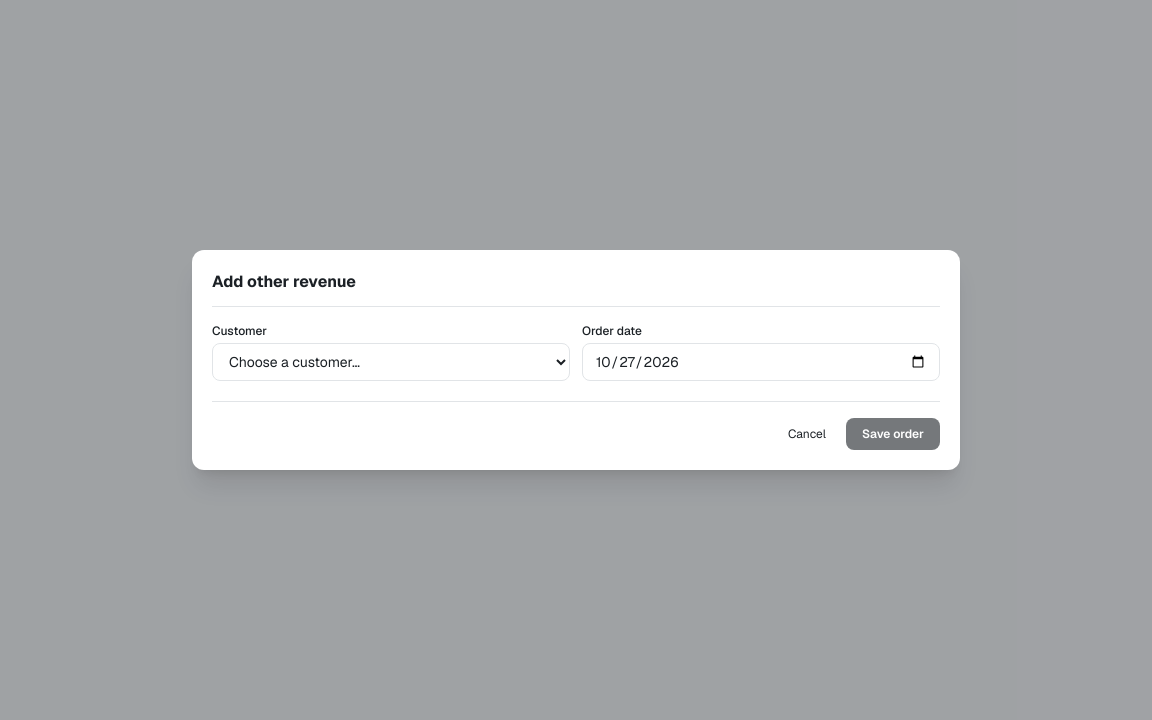
Test: OrderModal › takes a percentage discount and shows the VAT and total it produces
Select "Nordic Retail AS - Mazzetti.no (EUR)" in the dropdown labelled "Customer" at (391, 362), box [212,343,570,381]
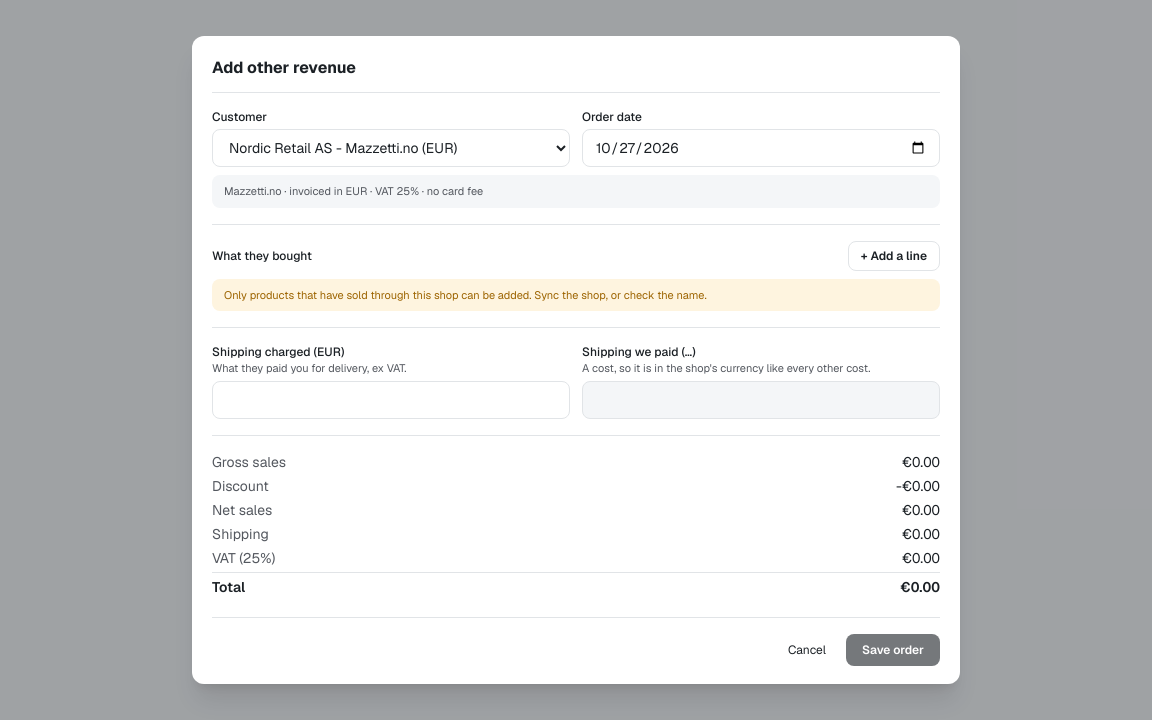
Click the button "+ Add a line".
click(894, 256)  # box [848,240,940,270]
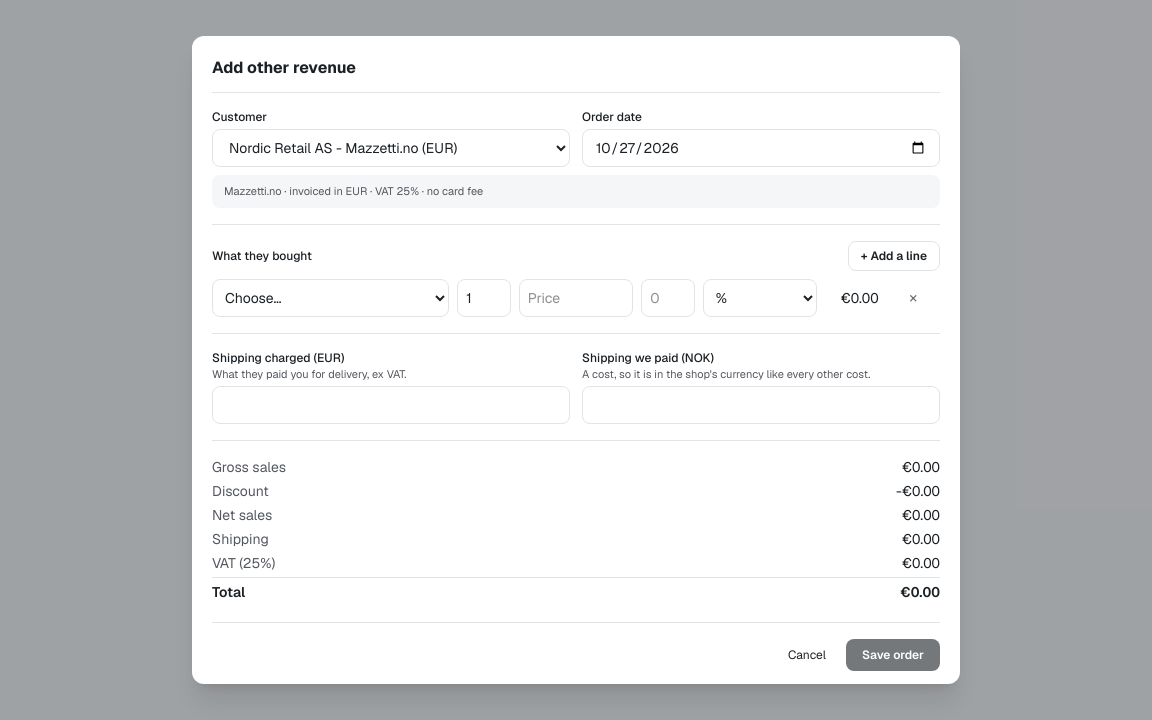
Select "Massage gun (SKU-1)" in the dropdown named "Product 1" at (331, 298), box [212,278,449,316]
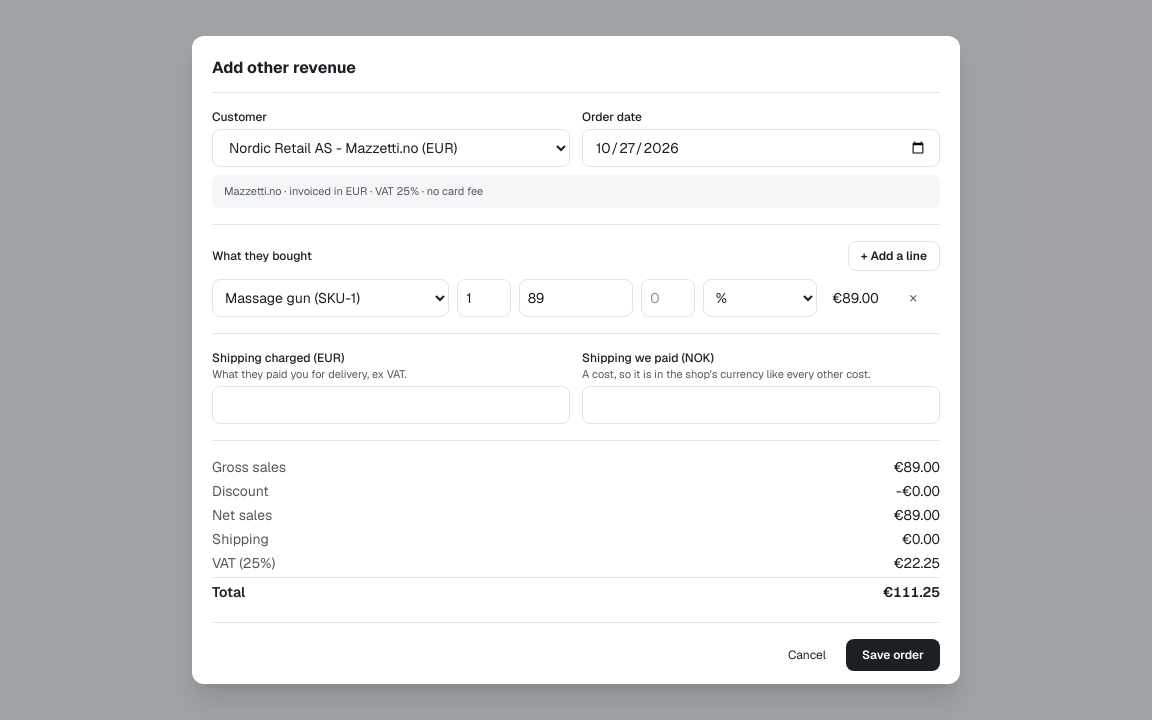
Replace the text in the number field named "Quantity 1" with "10" at (484, 298), box [457,278,511,316]
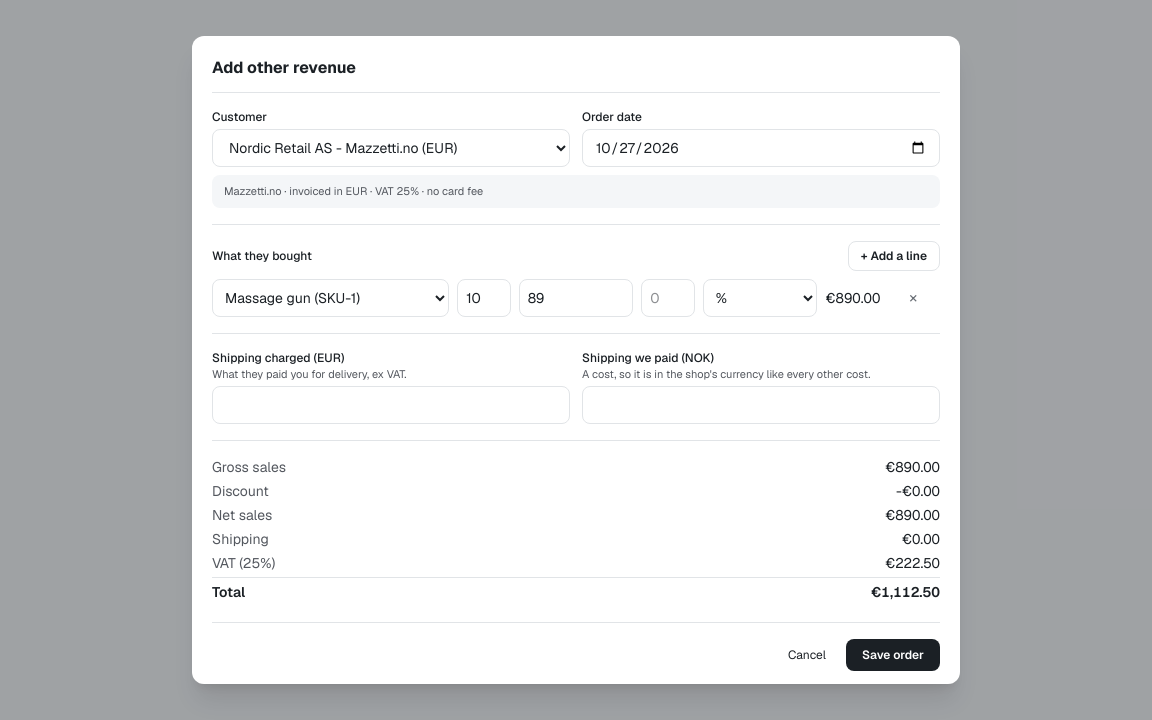
Type "10" into the number field named "Discount 1".
click(668, 298); type("10")  # box [641,278,695,316]
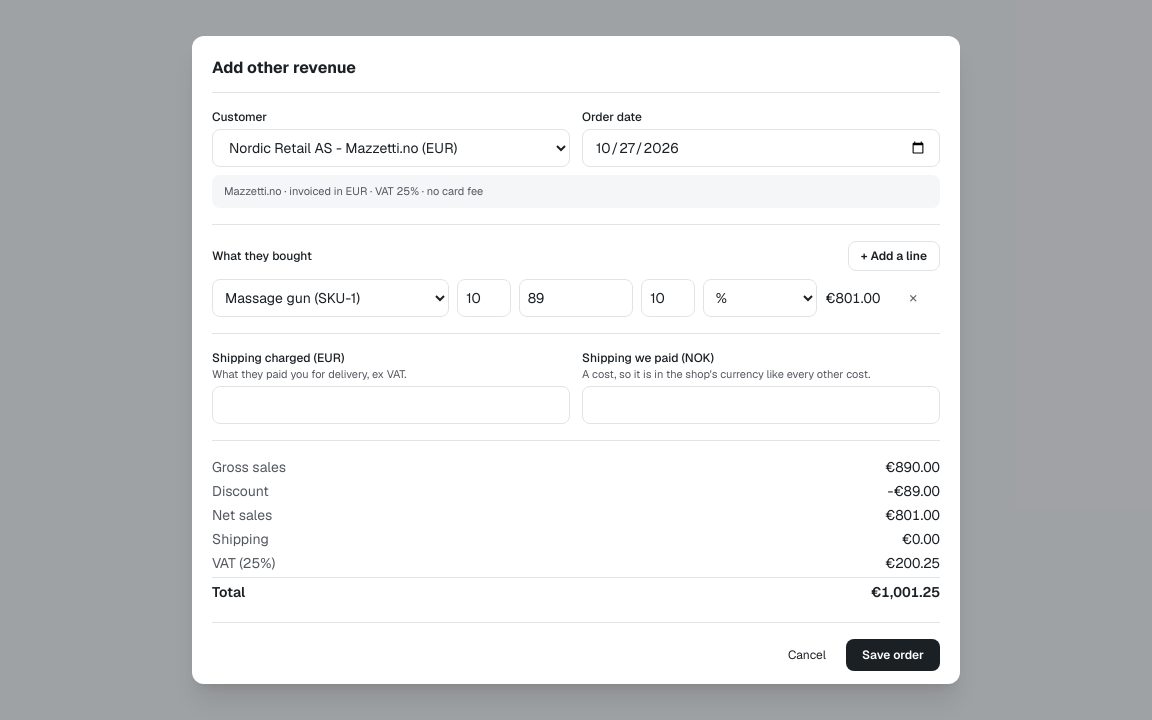
Check: the text with test id "total-net-sales" shows "801.00", box [885,506,940,524]
Check: the text with test id "total-vat" shows "200.25", box [885,554,940,572]
Check: the text with test id "total-total" shows "1,001.25", box [871,583,940,601]
